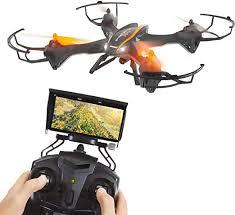drone: (0, 0, 235, 97)
